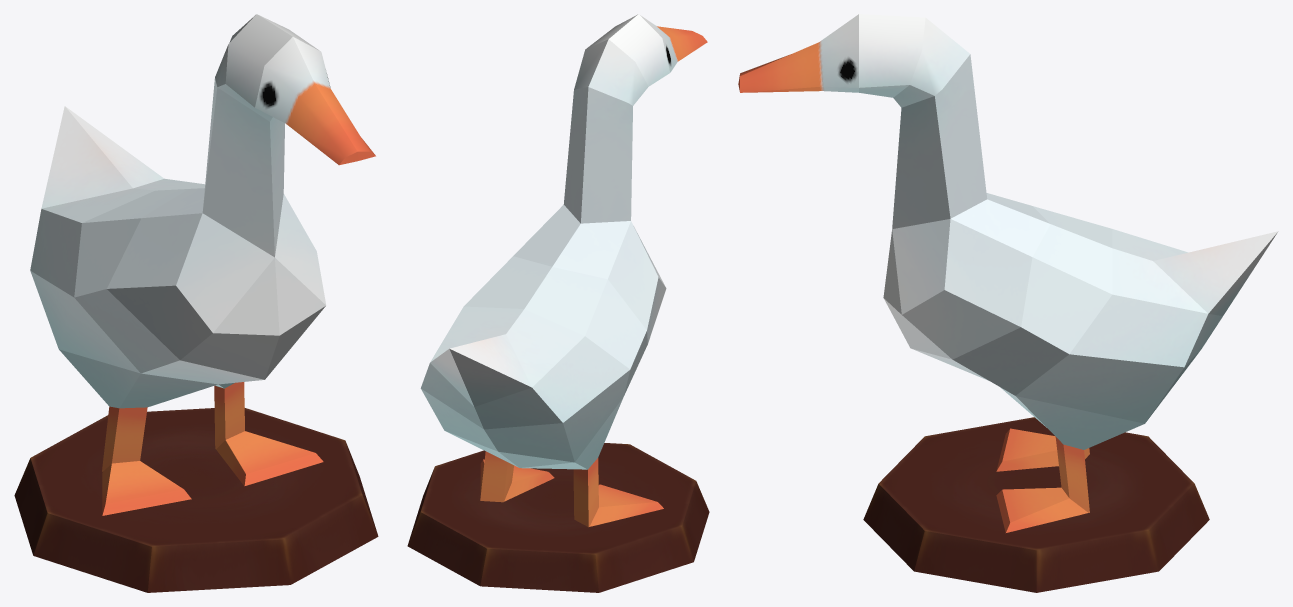
Rendered from Asset_Prey_Duck.fbx.
The picture shows the model from 3 angles, left to right: view 1: azimuth 30°, elevation 25°; view 2: azimuth 150°, elevation 25°; view 3: azimuth 270°, elevation 25°; orthographic projection. The views are drawn at different scales.
Visible parts, largest first — view 1: Duck_body, Duck_Stand; view 2: Duck_body, Duck_Stand; view 3: Duck_body, Duck_Stand.
Boxes of the visible parts, <box> form: Duck_body: <box>30,14,375,515</box>; Duck_Stand: <box>14,408,378,592</box>; Duck_body: <box>420,14,707,527</box>; Duck_Stand: <box>407,443,709,592</box>; Duck_body: <box>738,14,1278,532</box>; Duck_Stand: <box>863,417,1209,592</box>.
Size of the model in its own units: 22.49 by 36.22 by 35.07.
